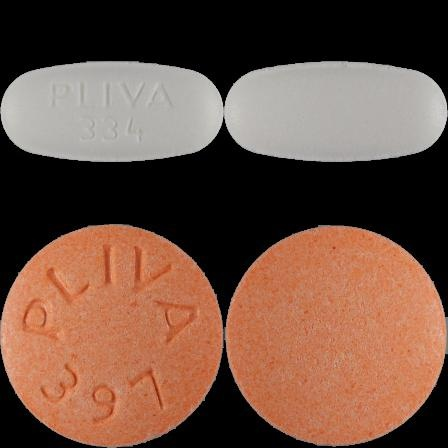50111-334: (0, 0, 224, 224)
